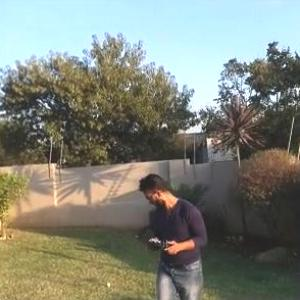follow: (136, 168, 211, 299)
